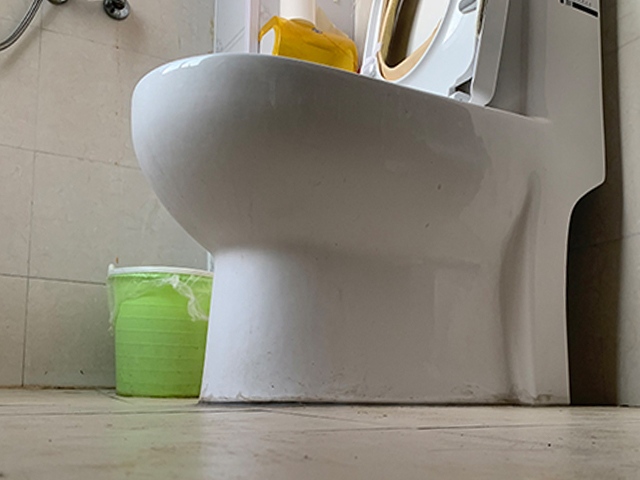closestool: (128, 1, 606, 407)
trashcan: (107, 263, 214, 399)
